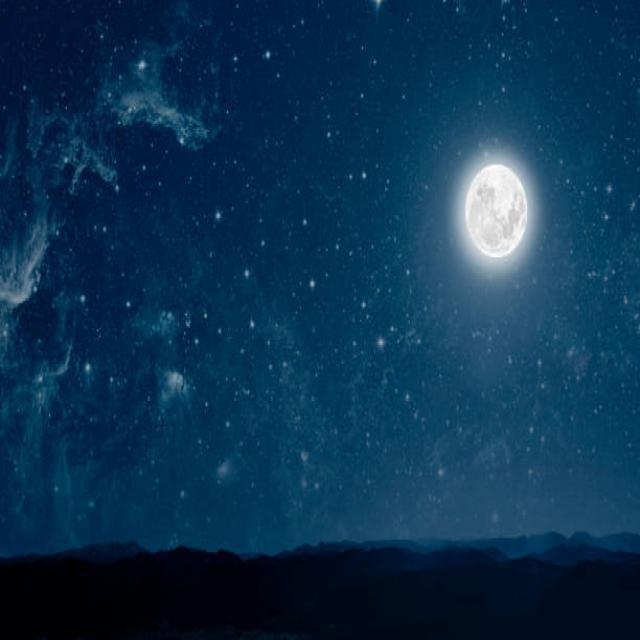moon: (461, 162, 528, 256)
